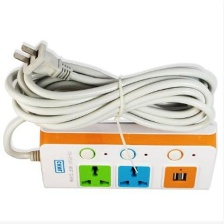three_eye_plug: (34, 117, 220, 193)
